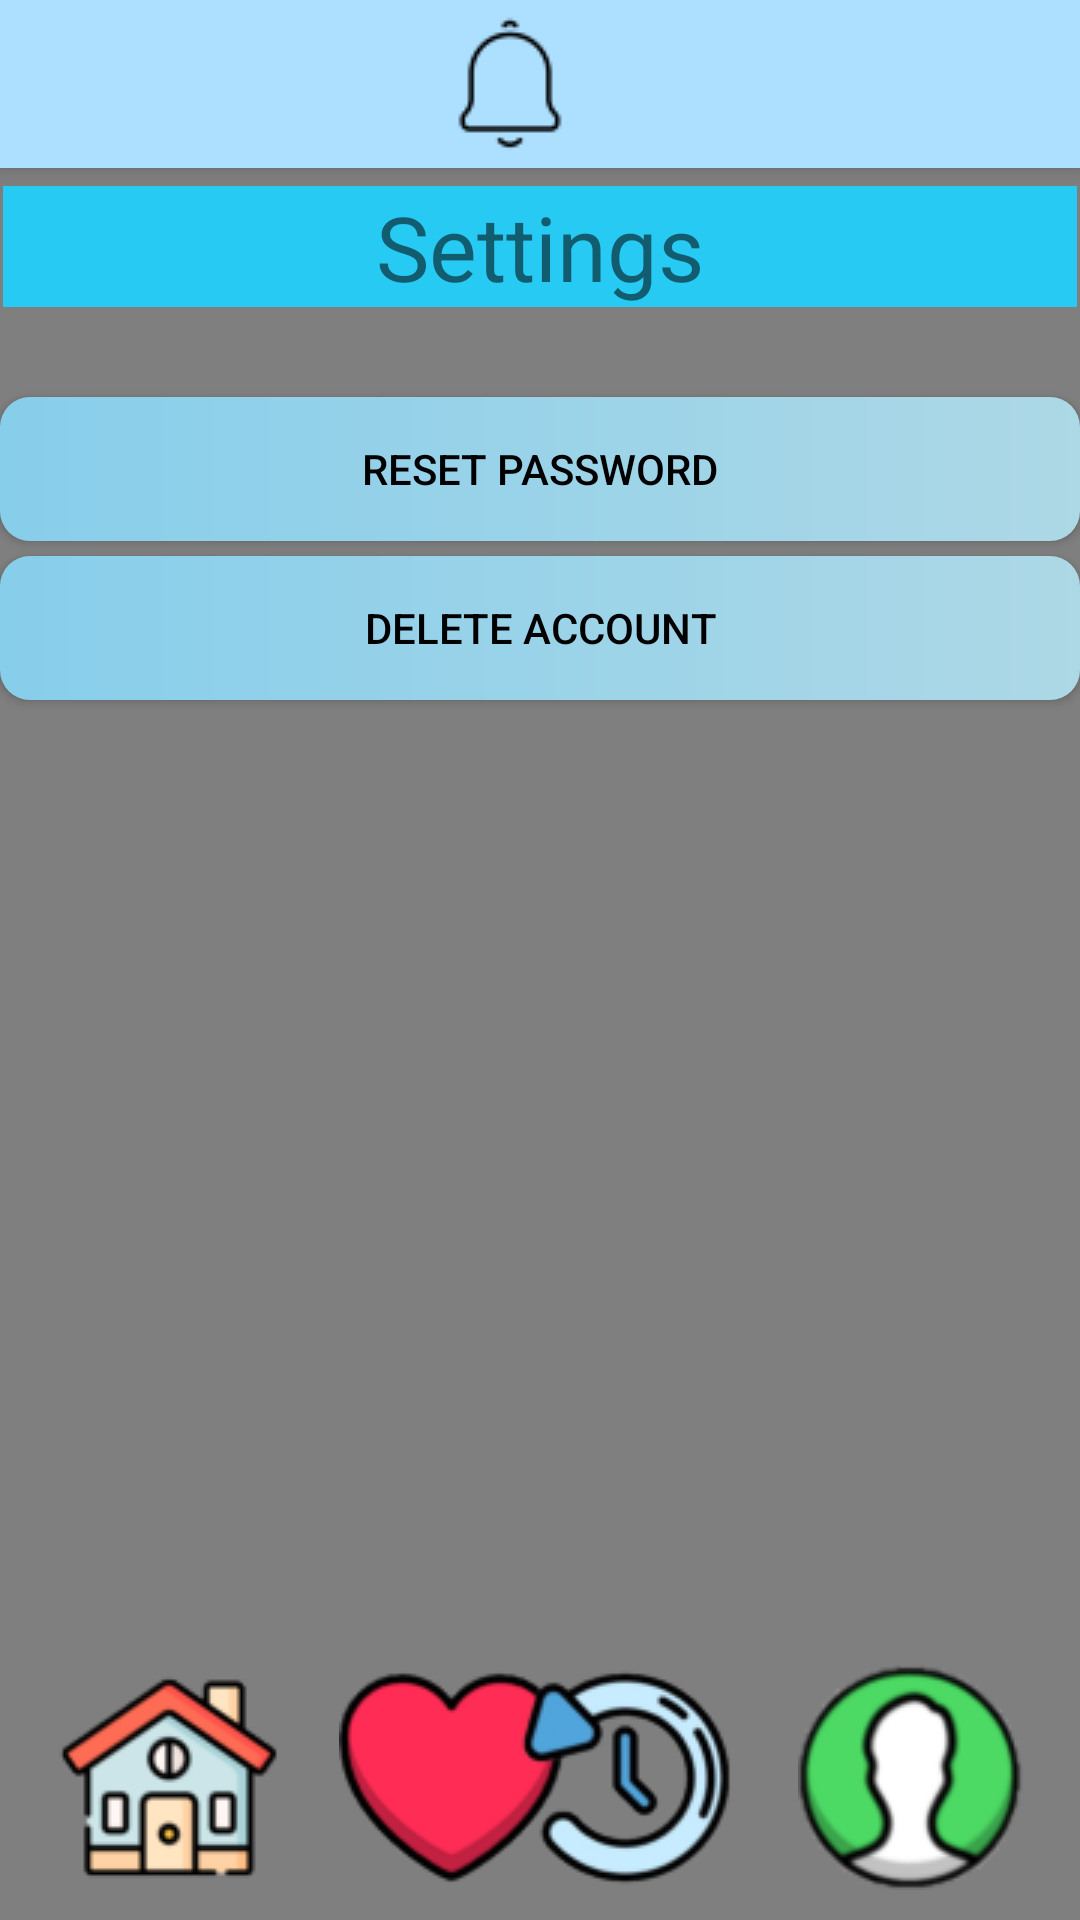

Where icons sit on this 1080 × 1920 app screen, as (x1, y1, x2, y2):
heart: (339, 1673, 564, 1882)
history: (516, 1673, 730, 1882)
home: (62, 1679, 277, 1876)
notification: (458, 18, 562, 148)
profile: (798, 1667, 1021, 1888)
